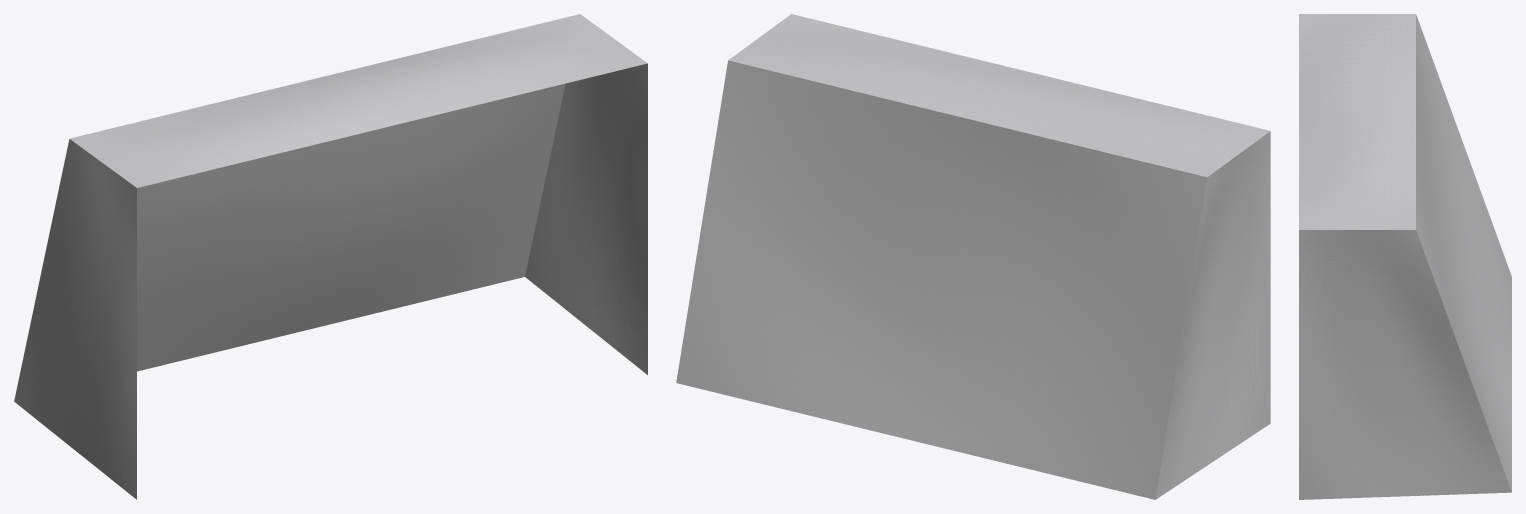
Rendered from GoalNet.fbx.
3 views of the same model, side by side, from view 1: azimuth 30°, elevation 25°; view 2: azimuth 150°, elevation 25°; view 3: azimuth 270°, elevation 25° (orthographic). The views are drawn at different scales.
Parts seen in each view (by area): view 1: GoalNet; view 2: GoalNet; view 3: GoalNet.
Part boxes in pixels (<box>): GoalNet: <box>14,14,647,499</box>; GoalNet: <box>676,14,1270,499</box>; GoalNet: <box>1299,14,1511,499</box>.
Size of the model in its own units: 2.4 by 1.43 by 1.
1 material, 1 textured.
